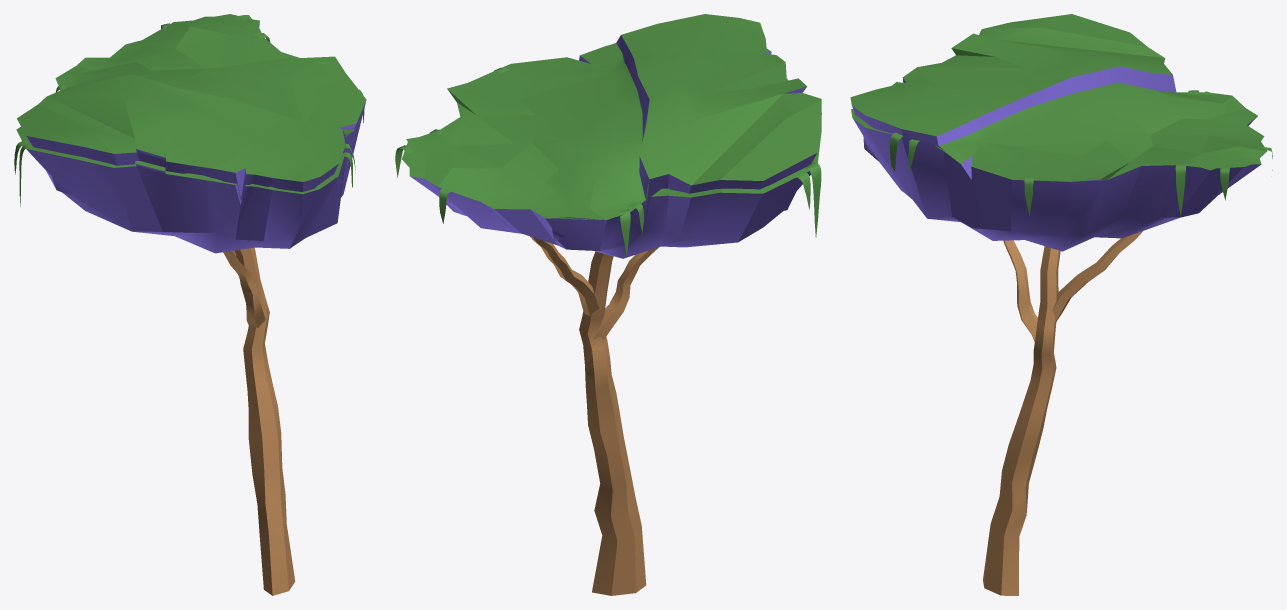
File: tree_A_canopy_B_C_solo.fbx
The picture shows the model from 3 angles, left to right: view 1: azimuth 30°, elevation 25°; view 2: azimuth 150°, elevation 25°; view 3: azimuth 270°, elevation 25°; orthographic projection. The views are drawn at different scales.
Parts seen in each view (by area): view 1: tree_A_canopy_B_C_leveled, tree_A_canopy_B_C, tree_B_canopy_B_C_trunk_A, tree_B_canopy_B_C_trunk_B; view 2: tree_A_canopy_B_C_leveled, tree_A_canopy_B_C, tree_B_canopy_B_C_trunk_A, tree_B_canopy_B_C_trunk_B, tree_B_canopy_B_C_trunk_C; view 3: tree_A_canopy_B_C_leveled, tree_A_canopy_B_C, tree_B_canopy_B_C_trunk_A, tree_B_canopy_B_C_trunk_C, tree_B_canopy_B_C_trunk_B.
Part boxes in pixels (box(x1,y1,x2,y2)): tree_A_canopy_B_C_leveled: box(17, 34, 366, 199); tree_A_canopy_B_C: box(16, 14, 366, 253); tree_B_canopy_B_C_trunk_A: box(235, 247, 295, 595); tree_B_canopy_B_C_trunk_B: box(223, 251, 265, 327); tree_A_canopy_B_C_leveled: box(452, 14, 821, 243); tree_A_canopy_B_C: box(402, 45, 821, 258); tree_B_canopy_B_C_trunk_A: box(579, 251, 646, 595); tree_B_canopy_B_C_trunk_B: box(593, 247, 659, 340); tree_B_canopy_B_C_trunk_C: box(530, 236, 599, 316); tree_A_canopy_B_C_leveled: box(850, 14, 1257, 251); tree_A_canopy_B_C: box(851, 98, 1267, 240); tree_B_canopy_B_C_trunk_A: box(983, 246, 1060, 595); tree_B_canopy_B_C_trunk_C: box(1052, 231, 1142, 323); tree_B_canopy_B_C_trunk_B: box(1003, 240, 1037, 342).
Bounding box in the file's own units: 348 × 497 × 395.
